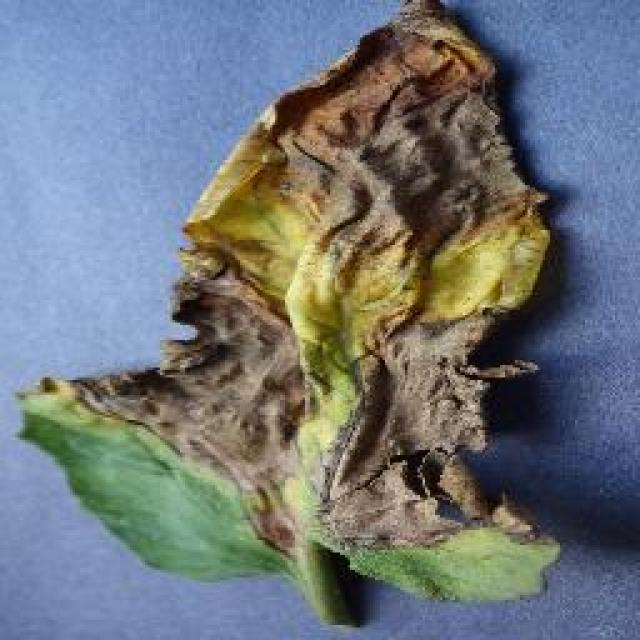Tomato late blight leaf: (18, 0, 566, 622)
